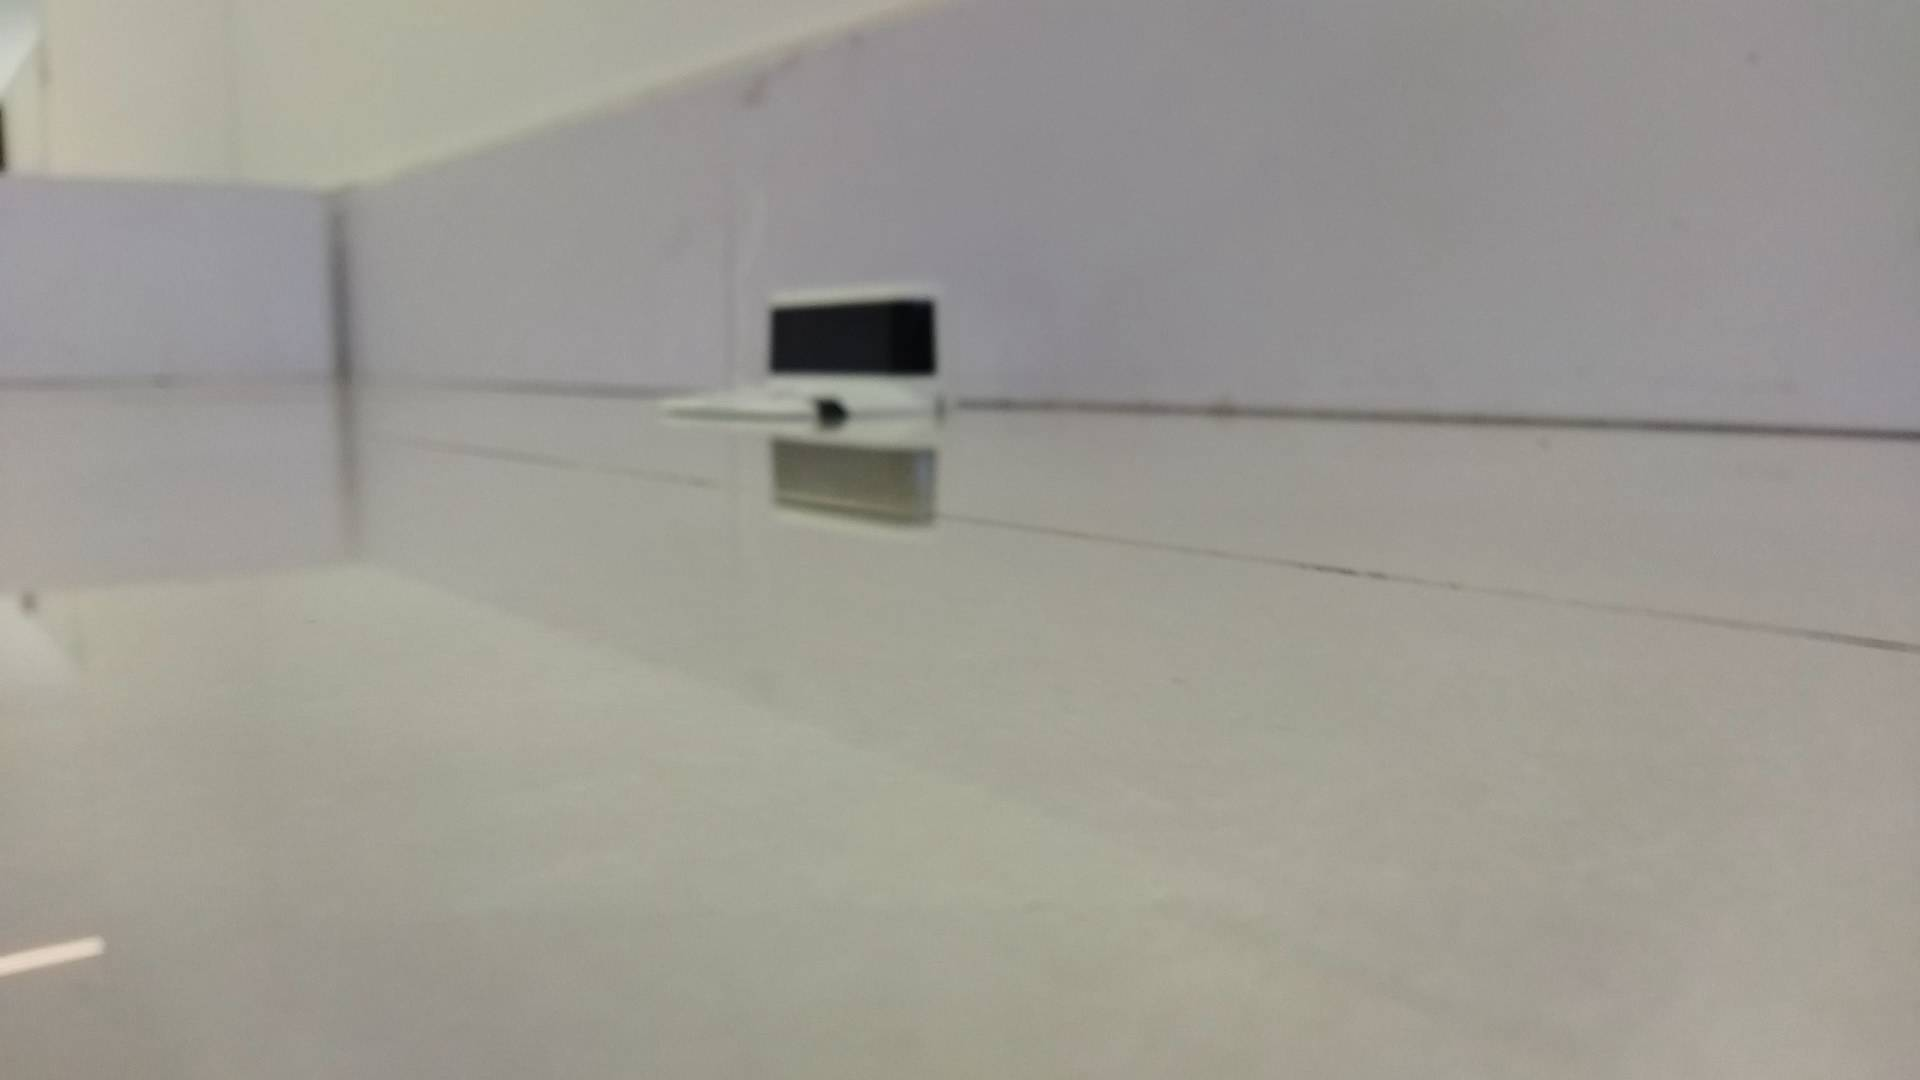recharge seat: (663, 284, 947, 426)
